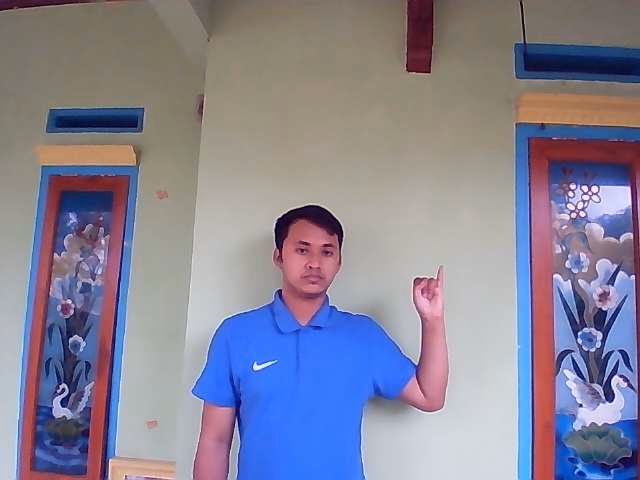I: (412, 264, 446, 321)
